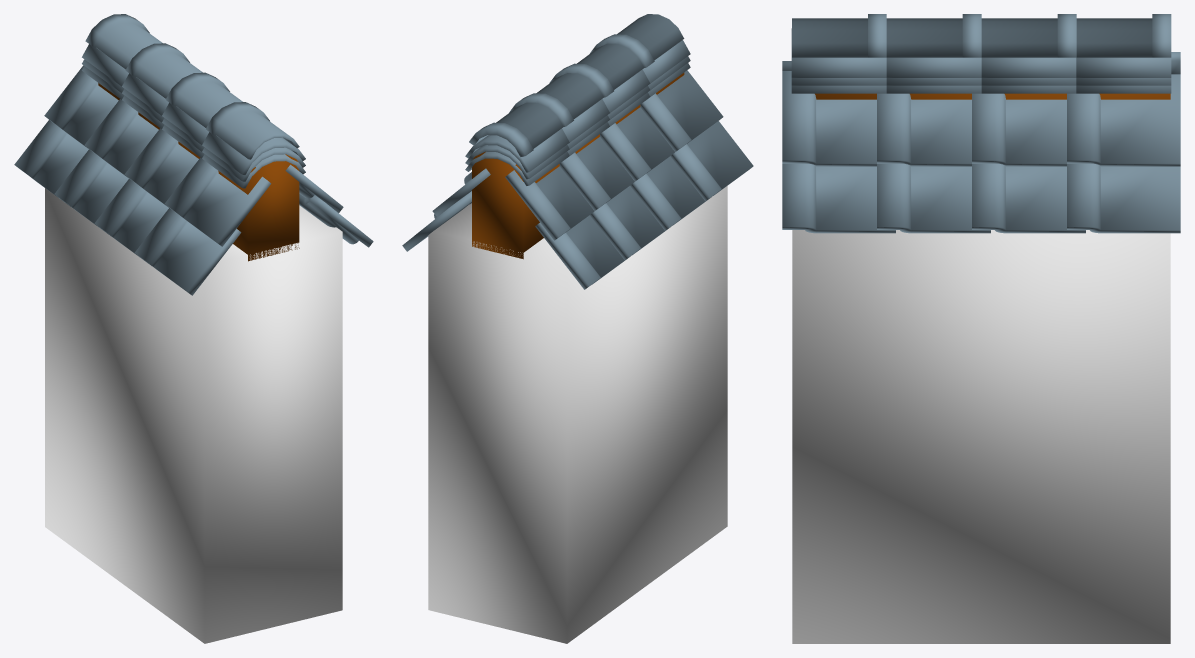
File: wall.fbx
3 views of the same model, side by side, from view 1: azimuth 30°, elevation 25°; view 2: azimuth 150°, elevation 25°; view 3: azimuth 270°, elevation 25° (orthographic). The views are drawn at different scales.
Parts seen in each view (by area): view 1: wall_white, kawara, kawara_cover, wall_nakami; view 2: wall_white, kawara, kawara_cover, wall_nakami; view 3: wall_white, kawara, kawara_cover, wall_nakami.
Part boxes in pixels (<box>): wall_white: <box>45,188,342,643</box>; kawara: <box>14,65,373,295</box>; kawara_cover: <box>82,14,305,188</box>; wall_nakami: <box>98,83,299,261</box>; wall_white: <box>428,186,727,643</box>; kawara: <box>402,70,753,289</box>; kawara_cover: <box>465,14,690,185</box>; wall_nakami: <box>472,72,684,259</box>; wall_white: <box>792,230,1170,643</box>; kawara: <box>782,52,1180,233</box>; kawara_cover: <box>791,14,1171,93</box>; wall_nakami: <box>815,93,1170,99</box>.
Bounding box in the file's own units: 98.03 × 243 × 150.
